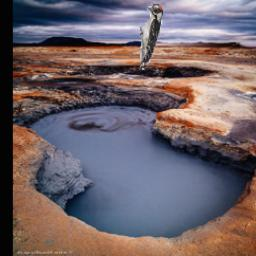Woodpecker: (140, 3, 164, 71)
